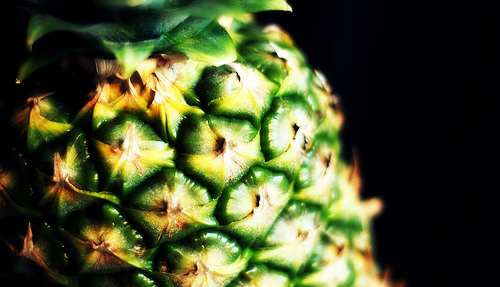pineapple: (0, 1, 400, 286)
